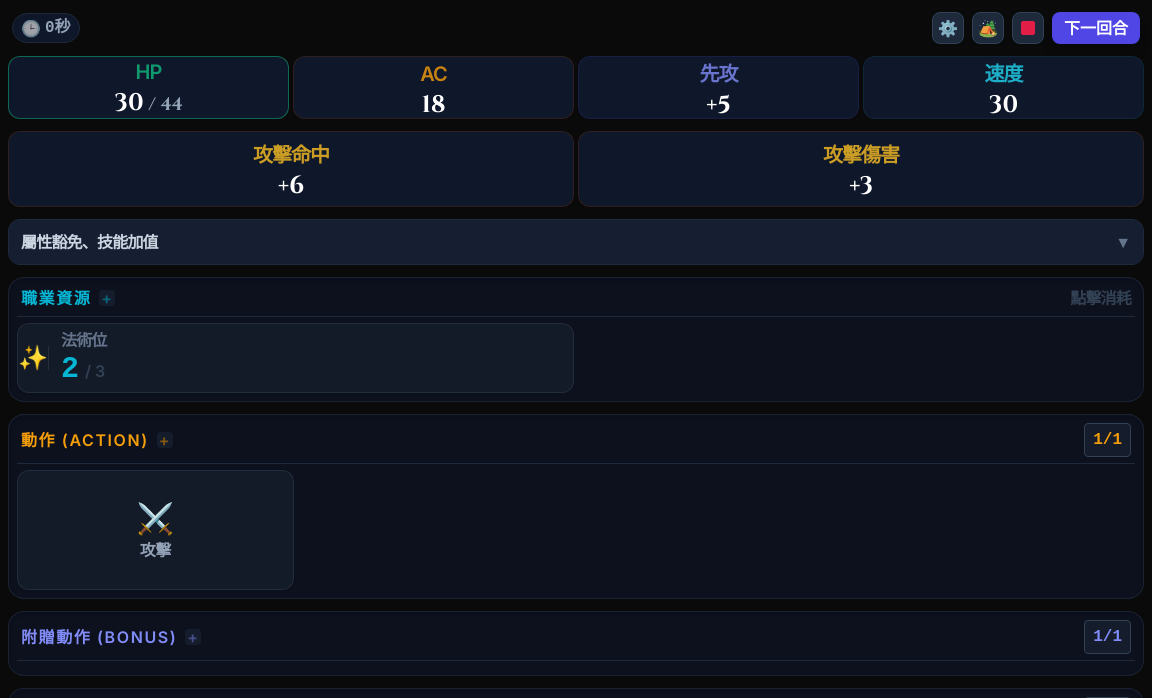
Test: CombatView - 加值表功能測試 › 給定 mock stats 時應顯示正確的加值
Click the text "屬性豁免、技能加值" at (89, 242), box [21,230,158,254]
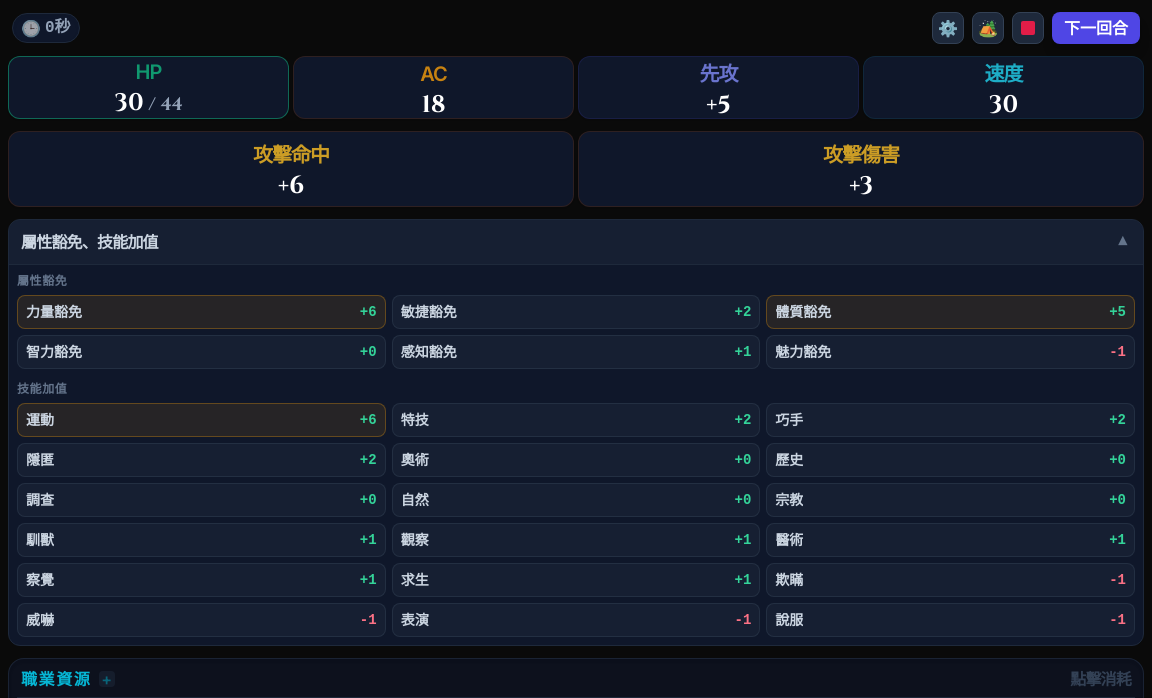
Expected: the text "力量豁免" is shown, [26,302,82,322]
Expected: the text "運動" is shown, [26,410,54,430]
